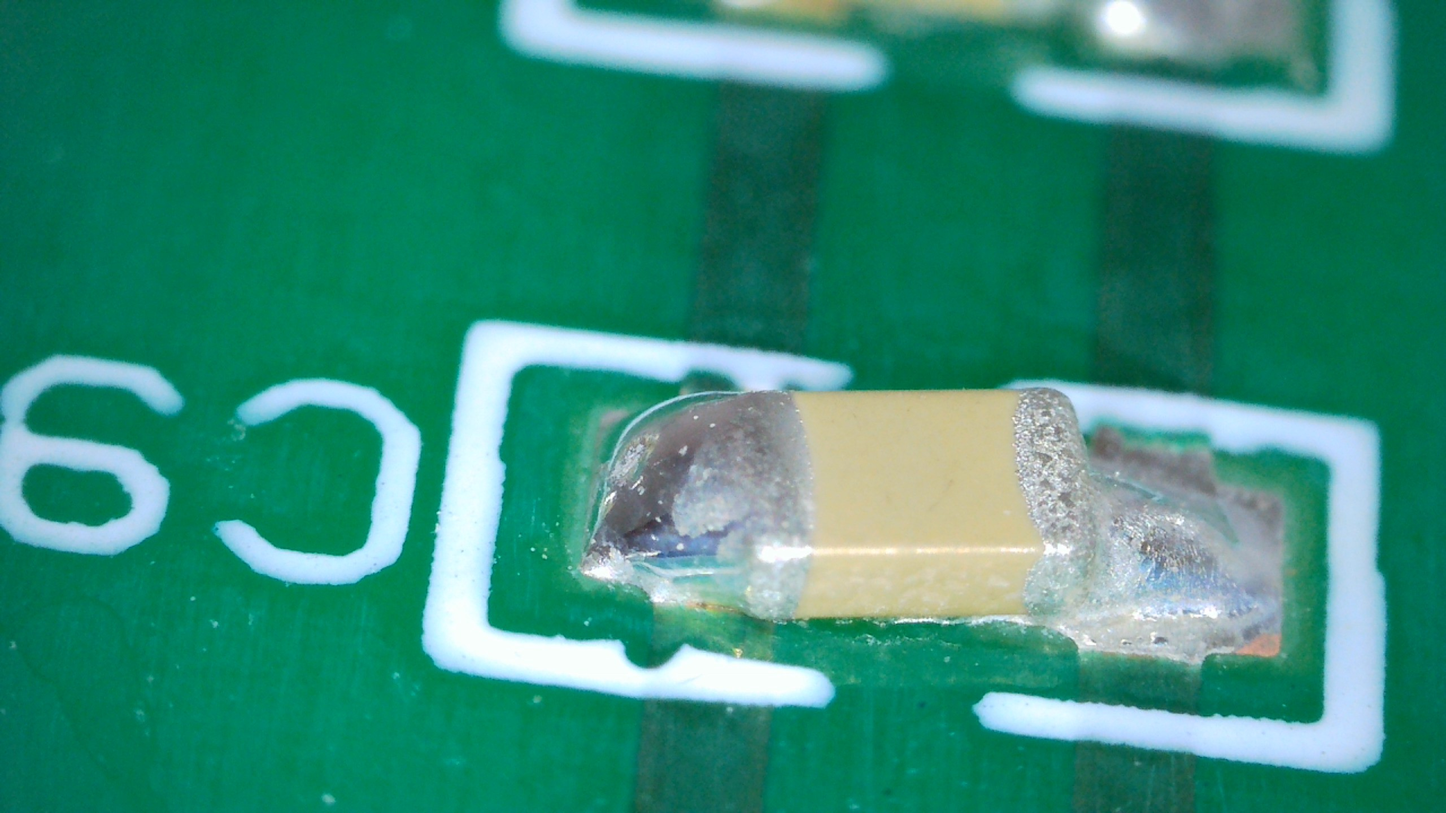NG: (1020, 389, 1277, 625), (586, 391, 814, 607)
